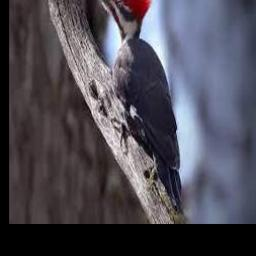Woodpecker: (90, 0, 183, 211)
